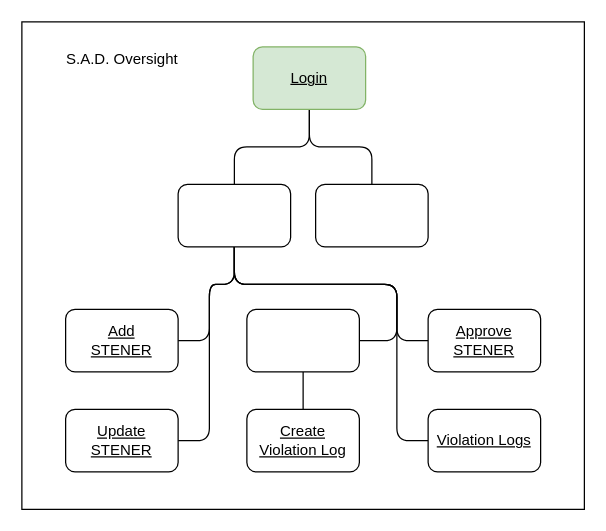
This 606x531 diagram has some shape labels left out. Each missing label, with the centre of its shape:
"Logout" goes at (x=371, y=215).
"Reject STENER" goes at (x=302, y=340).
"STENER Management" goes at (x=234, y=215).
